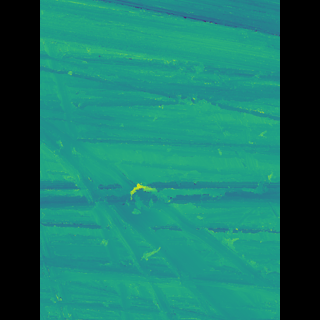Loch: (70, 100, 250, 320)
